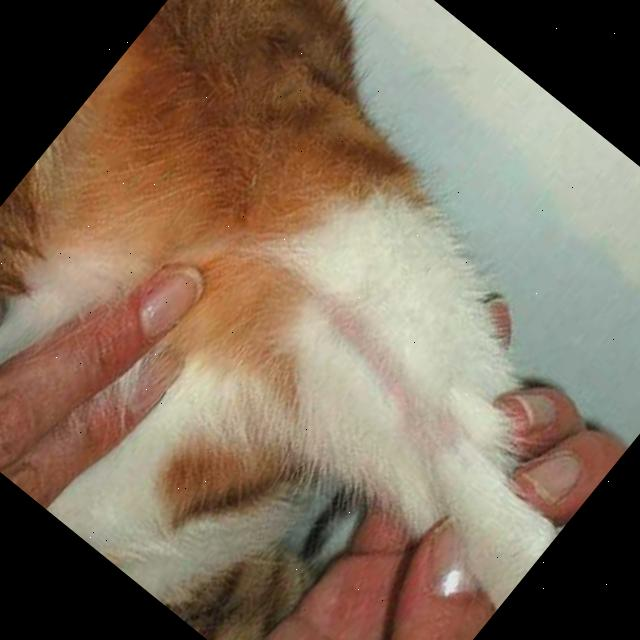cat-hairloss: (270, 274, 518, 511)
